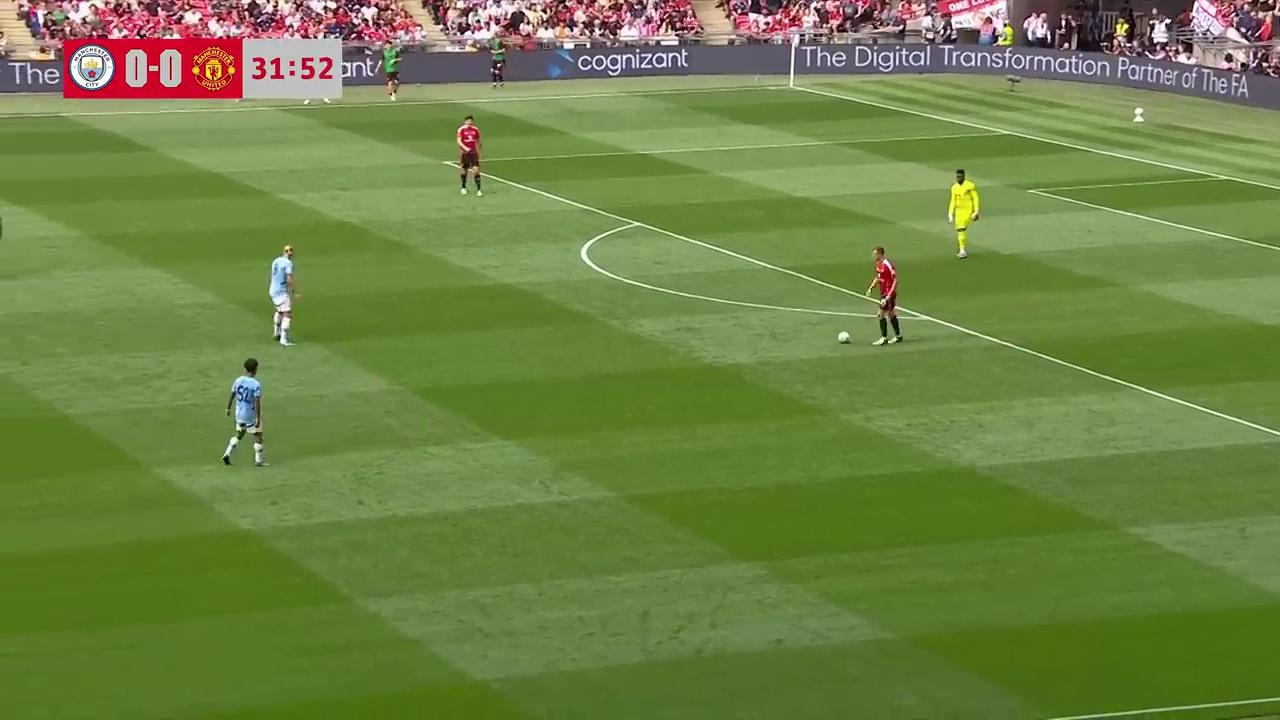ball: (835, 327, 851, 344)
player: (222, 358, 268, 468), (268, 244, 299, 346), (871, 251, 904, 346), (947, 168, 979, 258), (456, 115, 487, 194)
